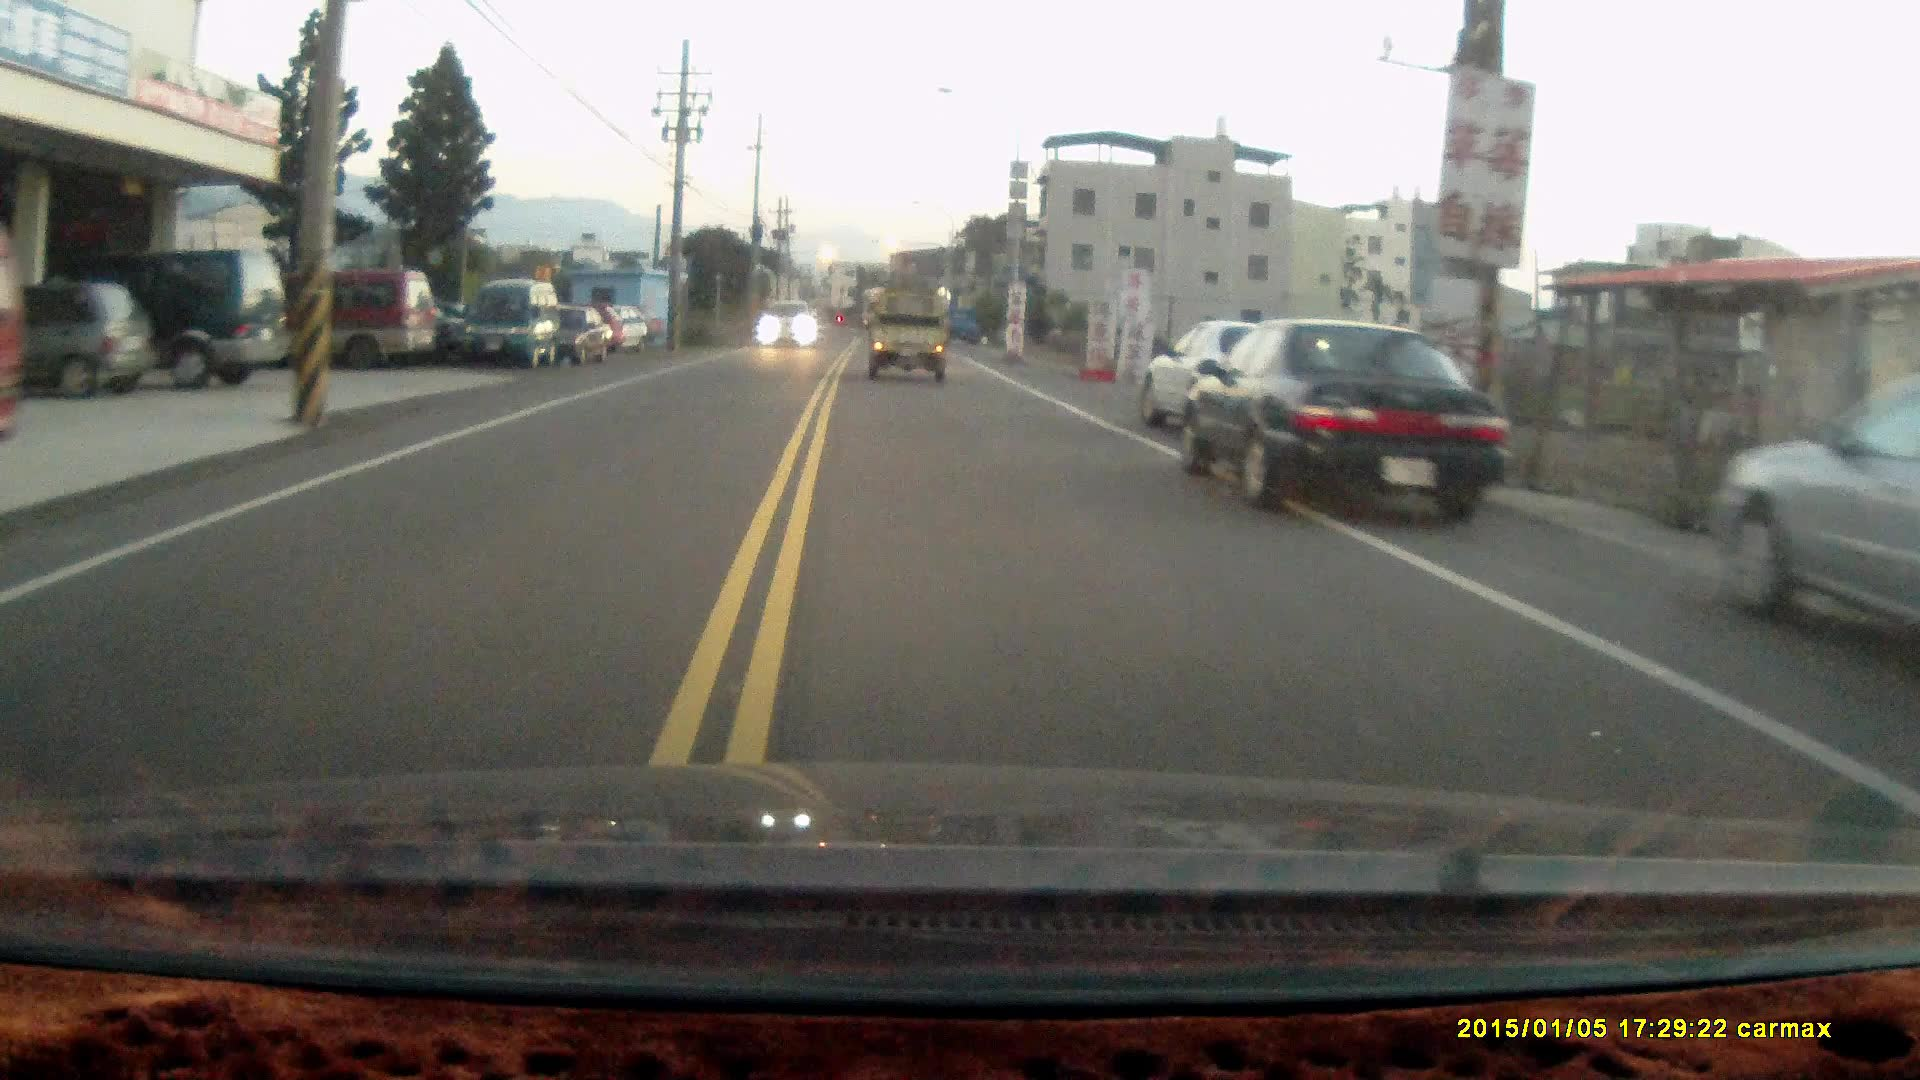vehicle: (1175, 316, 1509, 520), (1709, 385, 1920, 653), (37, 241, 291, 386), (232, 265, 439, 367), (1146, 318, 1313, 440), (1, 281, 158, 407), (451, 278, 558, 369), (865, 287, 949, 378), (537, 305, 616, 365), (757, 301, 820, 349)
